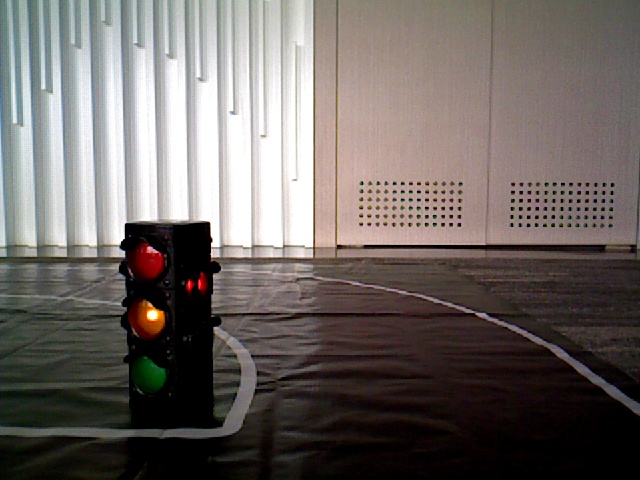yellow: (127, 224, 178, 395)
